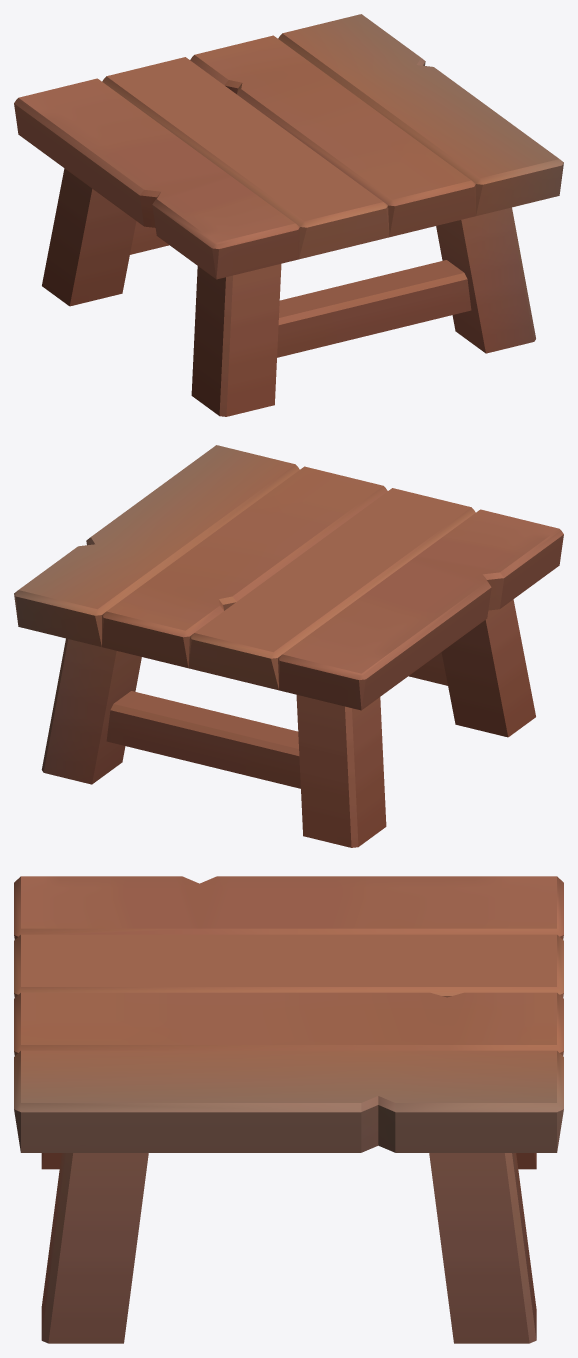
File: table_medium.glb
The picture shows the model from 3 angles, top to bottom: view 1: azimuth 30°, elevation 25°; view 2: azimuth 150°, elevation 25°; view 3: azimuth 270°, elevation 25°; orthographic projection. The views are drawn at different scales.
Parts seen in each view (by area): view 1: table_medium; view 2: table_medium; view 3: table_medium.
Boxes of the visible parts, box(x1,y1,x2,y2) form: table_medium: box(14, 14, 563, 416); table_medium: box(14, 445, 563, 847); table_medium: box(14, 876, 563, 1343).
Bounding box in the file's own units: 2 × 1 × 2.
Materials: 1 (1 with a texture image).
